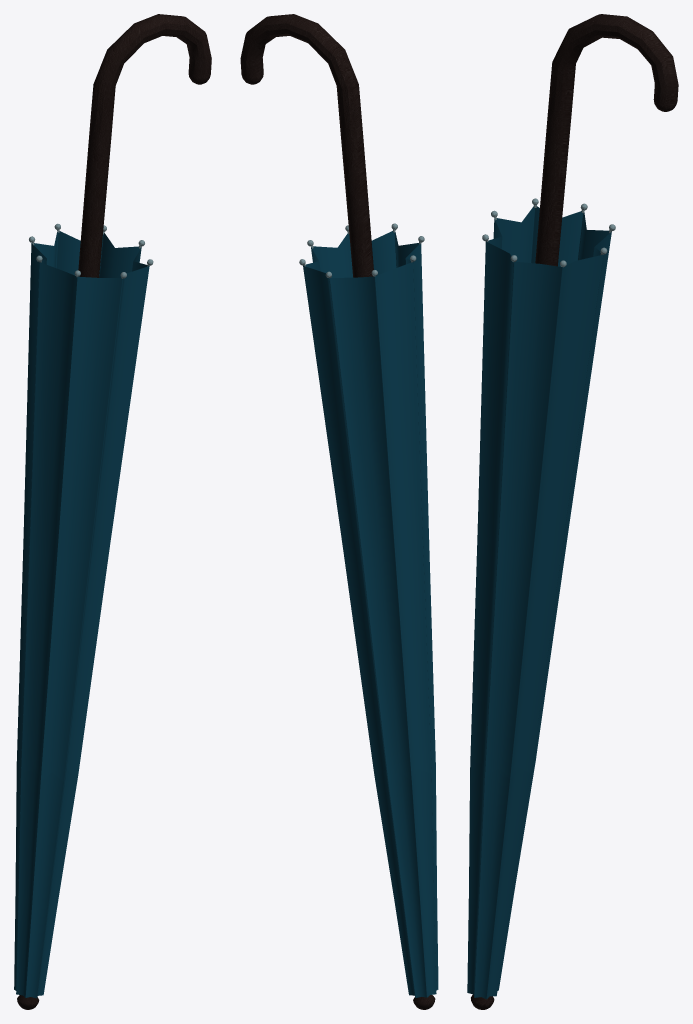
The model's file is umbrella.fbx.
3 renders of one model, left to right at view 1: azimuth 30°, elevation 25°; view 2: azimuth 150°, elevation 25°; view 3: azimuth 330°, elevation 25°, orthographic. The views are drawn at different scales.
Parts seen in each view (by area): view 1: umbrella; view 2: umbrella; view 3: umbrella.
Part boxes in pixels (<box>): umbrella: <box>14,14,211,1009</box>; umbrella: <box>240,14,438,1009</box>; umbrella: <box>467,14,678,1009</box>.
Bounding box in the file's own units: 0.00931 × 0.044 × 0.00574.
3 materials, 1 textured.
